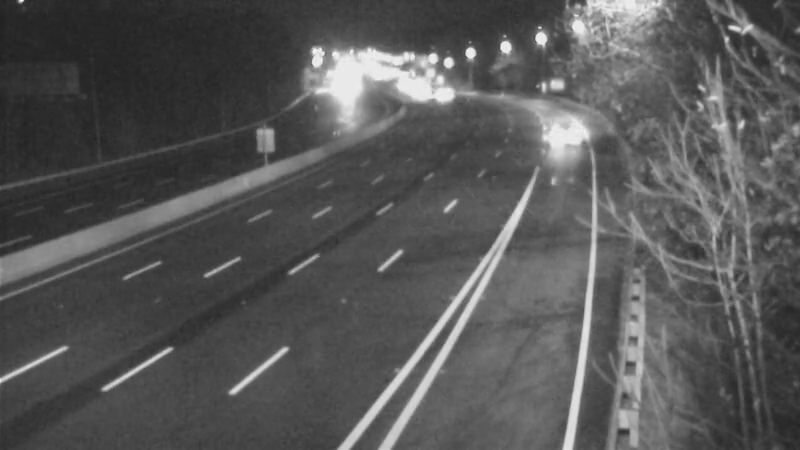vehicle: (420, 68, 470, 118), (396, 74, 446, 124), (538, 108, 588, 158)
